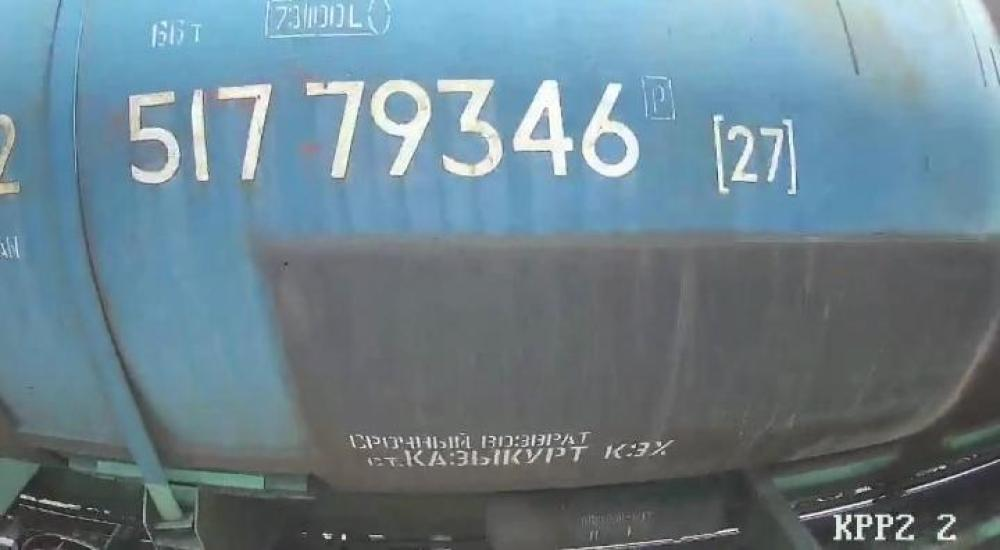Wagon-number: (122, 77, 646, 190)
